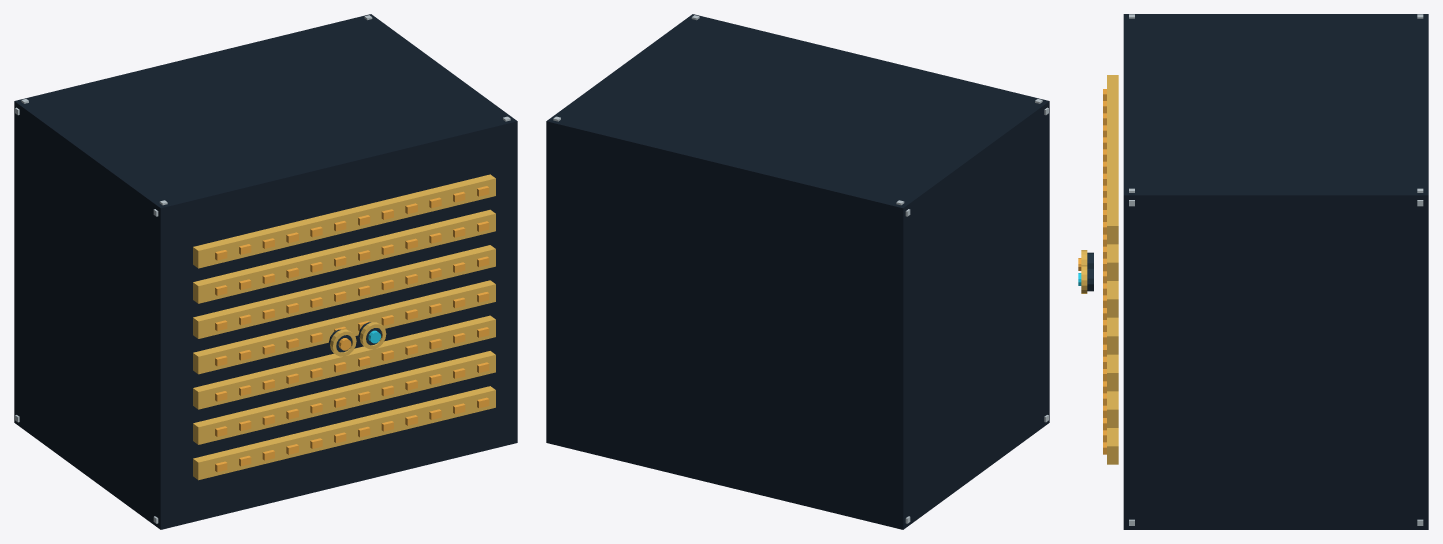
The model's file is 26_L81_ReadOnlyGoldenImageVault.fbx.
The picture shows the model from 3 angles, left to right: view 1: azimuth 30°, elevation 25°; view 2: azimuth 150°, elevation 25°; view 3: azimuth 270°, elevation 25°; orthographic projection. The views are drawn at different scales.
Parts seen in each view (by area): view 1: ReadOnlyGoldenImageVault; view 2: ReadOnlyGoldenImageVault; view 3: ReadOnlyGoldenImageVault.
Boxes of the visible parts, bbox=[...] form: ReadOnlyGoldenImageVault: bbox=[14, 14, 517, 529]; ReadOnlyGoldenImageVault: bbox=[546, 14, 1049, 529]; ReadOnlyGoldenImageVault: bbox=[1078, 14, 1428, 529].
Bounding box in the file's own units: 182 × 157 × 147.
